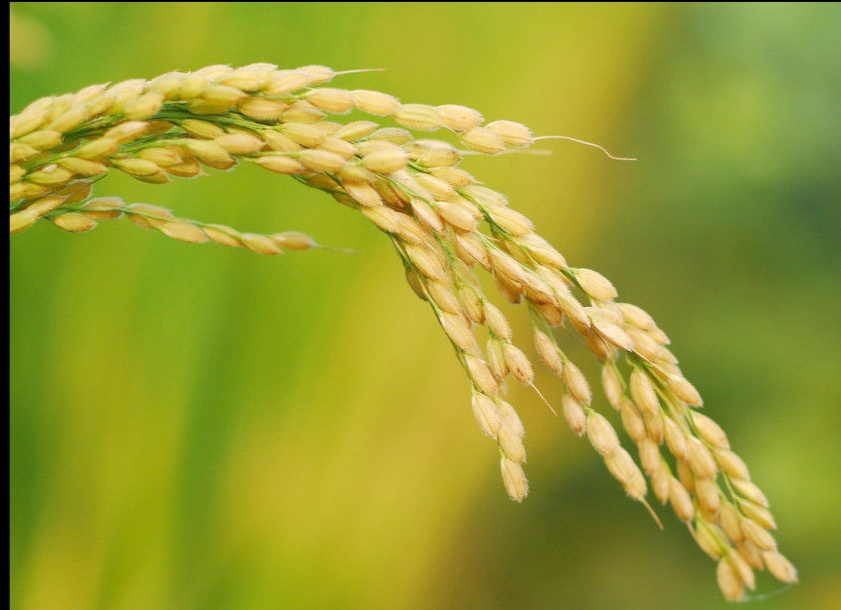rice: (10, 27, 813, 600)
